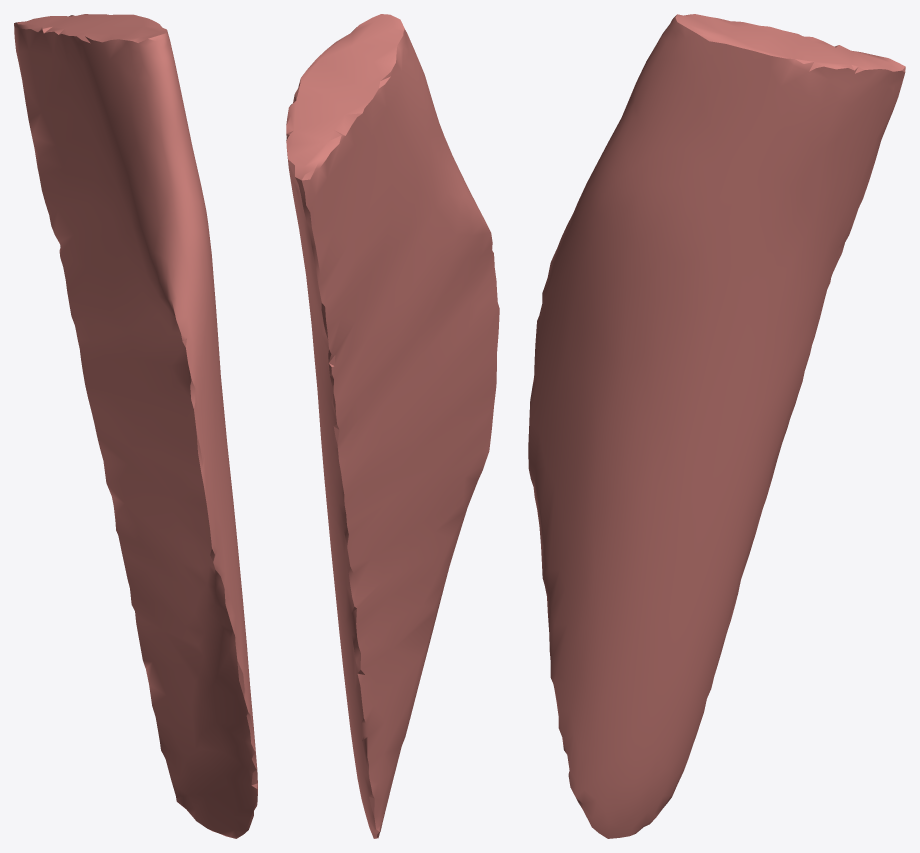
The model's file is fma49250_mm1844m.glb.
3 renders of one model, left to right at view 1: azimuth 30°, elevation 25°; view 2: azimuth 150°, elevation 25°; view 3: azimuth 270°, elevation 25°, orthographic. The views are drawn at different scales.
Visible parts, largest first — view 1: FMA49250_MM1844M; view 2: FMA49250_MM1844M; view 3: FMA49250_MM1844M.
Part boxes in pixels (<box>): FMA49250_MM1844M: <box>14,14,257,838</box>; FMA49250_MM1844M: <box>286,14,499,838</box>; FMA49250_MM1844M: <box>528,14,905,838</box>.
Bounding box in the file's own units: 0.00688 × 0.0576 × 0.0246.
